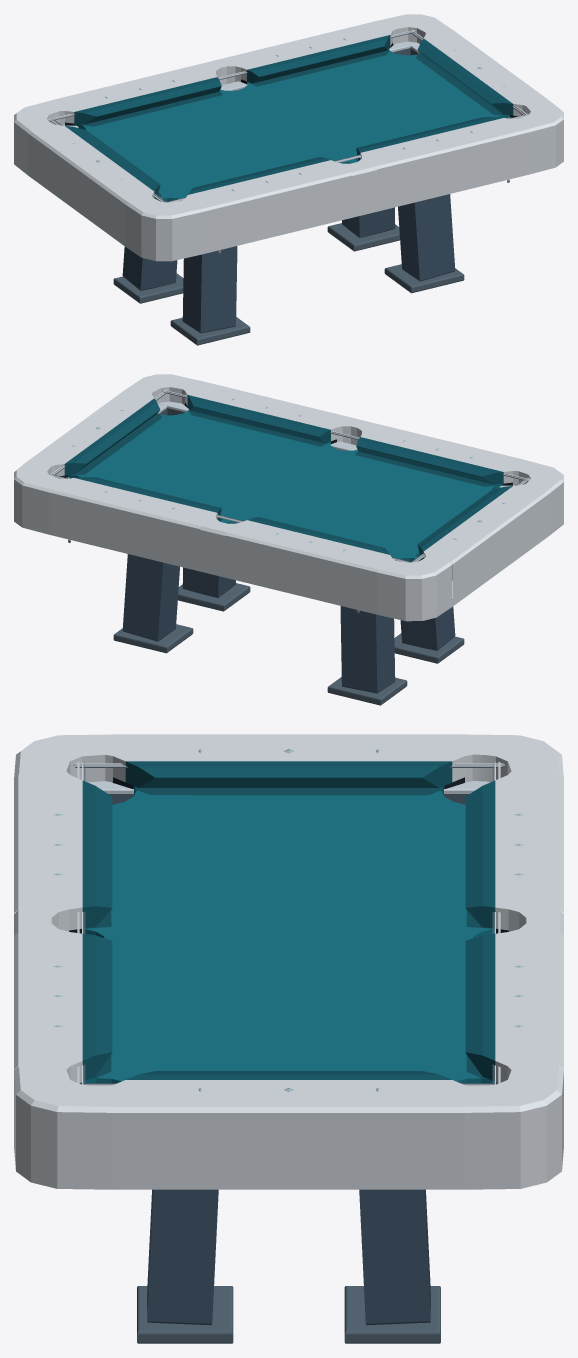
The model's file is table-eightball-5-american-ivory.glb.
3 renders of one model, top to bottom at view 1: azimuth 30°, elevation 25°; view 2: azimuth 150°, elevation 25°; view 3: azimuth 270°, elevation 25°, orthographic. The views are drawn at different scales.
Parts seen in each view (by area): view 1: table-eightball-5-american-ivory, break-builder-table-support, spectra-ivory-table-details, spectra-ivory-table-body; view 2: table-eightball-5-american-ivory, break-builder-table-support, spectra-ivory-table-details, spectra-ivory-table-body; view 3: table-eightball-5-american-ivory, break-builder-table-support, spectra-ivory-table-details, spectra-ivory-table-body.
Boxes of the visible parts, <box> form: table-eightball-5-american-ivory: <box>14,14,563,261</box>; break-builder-table-support: <box>113,194,464,345</box>; spectra-ivory-table-details: <box>47,29,528,202</box>; spectra-ivory-table-body: <box>63,41,510,203</box>; table-eightball-5-american-ivory: <box>14,374,563,621</box>; break-builder-table-support: <box>113,554,464,705</box>; spectra-ivory-table-details: <box>49,389,529,562</box>; spectra-ivory-table-body: <box>67,401,514,580</box>; table-eightball-5-american-ivory: <box>14,734,563,1189</box>; break-builder-table-support: <box>137,1189,440,1343</box>; spectra-ivory-table-details: <box>73,761,504,1086</box>; spectra-ivory-table-body: <box>88,781,489,804</box>.
Size of the model in its own units: 1.64 by 0.6245 by 1.01.
Materials: 43 (1 with a texture image).
